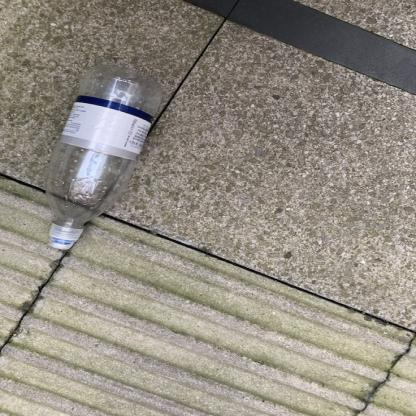trash: (39, 63, 166, 249)
